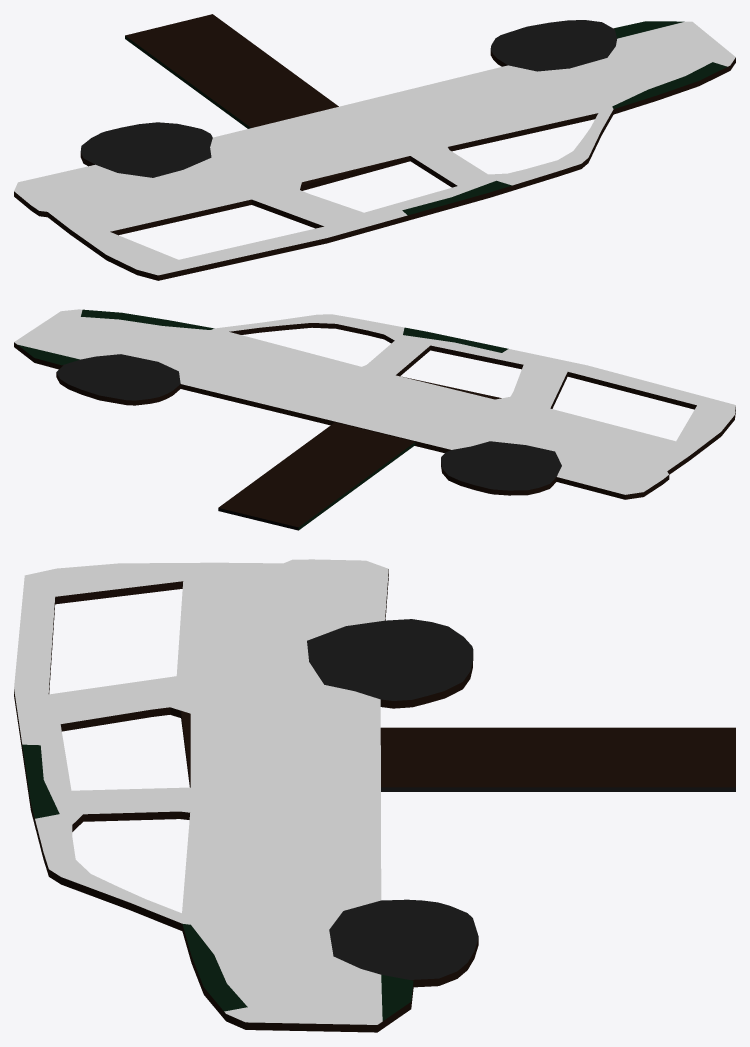
The model's file is border control.FBX.
The picture shows the model from 3 angles, top to bottom: view 1: azimuth 30°, elevation 25°; view 2: azimuth 150°, elevation 25°; view 3: azimuth 270°, elevation 25°; orthographic projection. The views are drawn at different scales.
Parts seen in each view (by area): view 1: Border control; view 2: Border control; view 3: Border control.
Part boxes in pixels (x1=…): Border control: x1=14, y1=14, x2=735, y2=280; Border control: x1=14, y1=309, x2=735, y2=530; Border control: x1=14, y1=559, x2=735, y2=1032.
Bounding box in the file's own units: 133 × 1 × 87.01.
